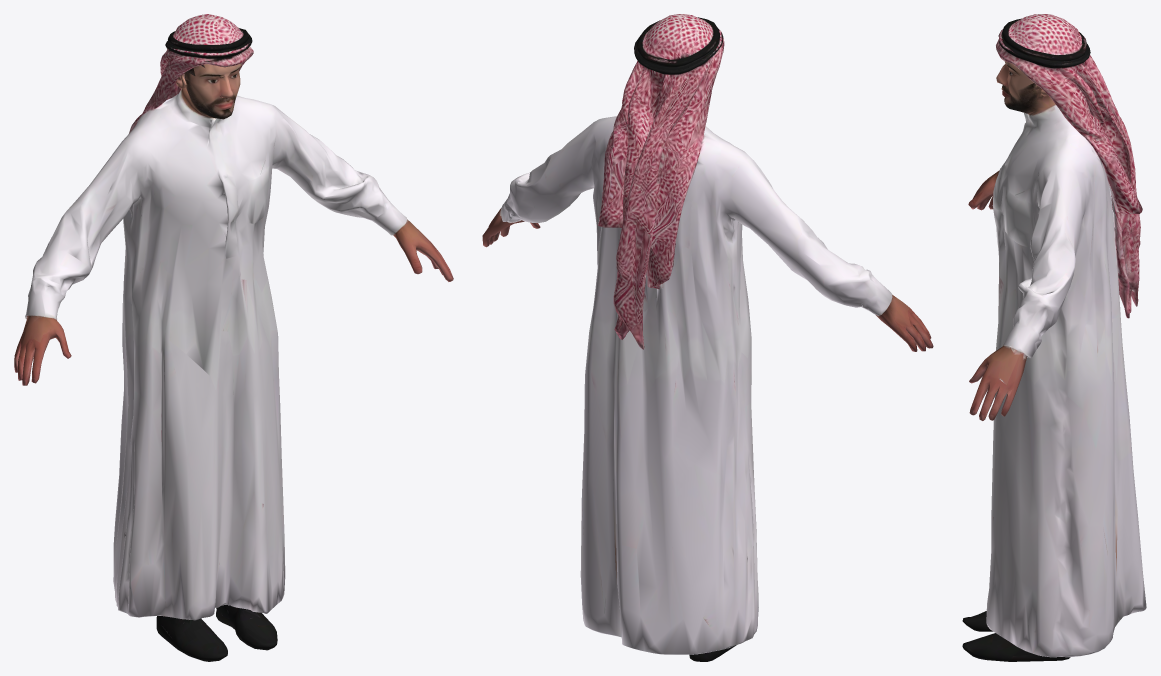
Rendered from inspection.glb.
3 renders of one model, left to right at view 1: azimuth 30°, elevation 25°; view 2: azimuth 150°, elevation 25°; view 3: azimuth 270°, elevation 25°, orthographic. The views are drawn at different scales.
Visible parts, largest first — view 1: Mesh_0; view 2: Mesh_0; view 3: Mesh_0.
Part boxes in pixels (left/top/right/bottom): Mesh_0: left=14, top=14, right=453, bottom=661; Mesh_0: left=482, top=14, right=933, bottom=661; Mesh_0: left=962, top=14, right=1146, bottom=661.
Bounding box in the file's own units: 1.4 × 1.9 × 0.5078.
Materials: 1 (1 with a texture image).
